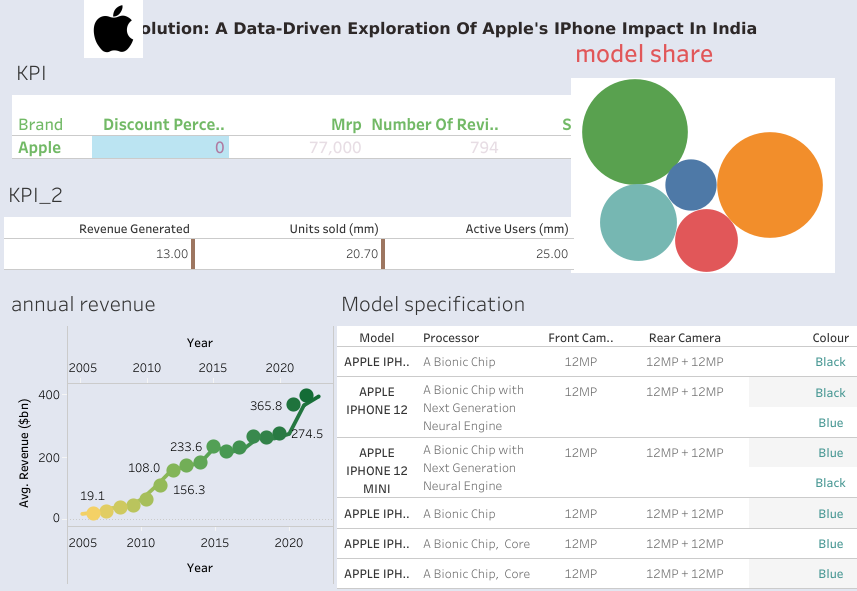

This screenshot's page, from the dashboard's own definition file:
{"tool":"tableau","page":{"name":"Dashboard 1","canvas":[858,592],"ordinal":0},"visuals":[{"type":"title","box":[8,8,842,40]},{"type":"worksheet","title":"model share","mark":"Circle","box":[571.3,29,262.7,243]},{"type":"worksheet","title":"KPI","mark":"Automatic","rows":["Brand"],"box":[8,48,842,536]},{"type":"worksheet","title":"KPI_2","mark":"Automatic","box":[4,173.9,570.4,96.8]},{"type":"worksheet","title":"annual revenue","mark":"Automatic","rows":["Revenue ($bn)"],"cols":["Year","Year"],"box":[7.1,282.8,327.3,301.5]},{"type":"worksheet","title":"Model specification","mark":"Automatic","rows":["model","processor","front_camera","rear_camera","colour"],"box":[336.8,282.8,522.7,305.9]}]}

Visuals, with their boxes in screenshot pixels (x1, y1, x2, y2), scaled from the page's 858x592 canvas onto the 857x591 screenshot:
title: box(8, 8, 849, 48)
"model share" worksheet (Circle marks): box(571, 29, 833, 272)
"KPI" worksheet: box(8, 48, 849, 583)
"KPI_2" worksheet: box(4, 174, 574, 270)
"annual revenue" worksheet: box(7, 282, 334, 583)
"Model specification" worksheet: box(336, 282, 856, 588)
